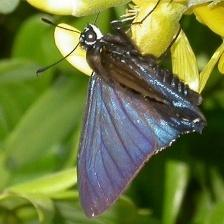butterfly: (74, 22, 208, 219)
